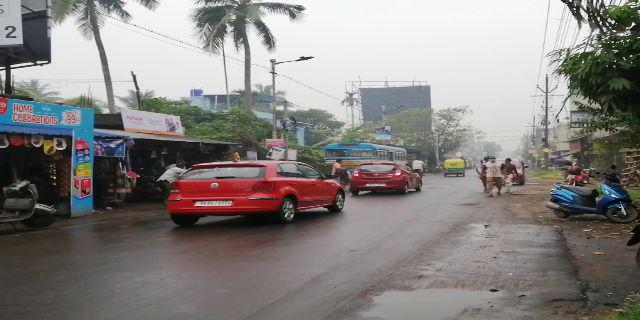Autorickshaw: (437, 154, 467, 179)
Car: (163, 157, 348, 230), (352, 158, 420, 192)
